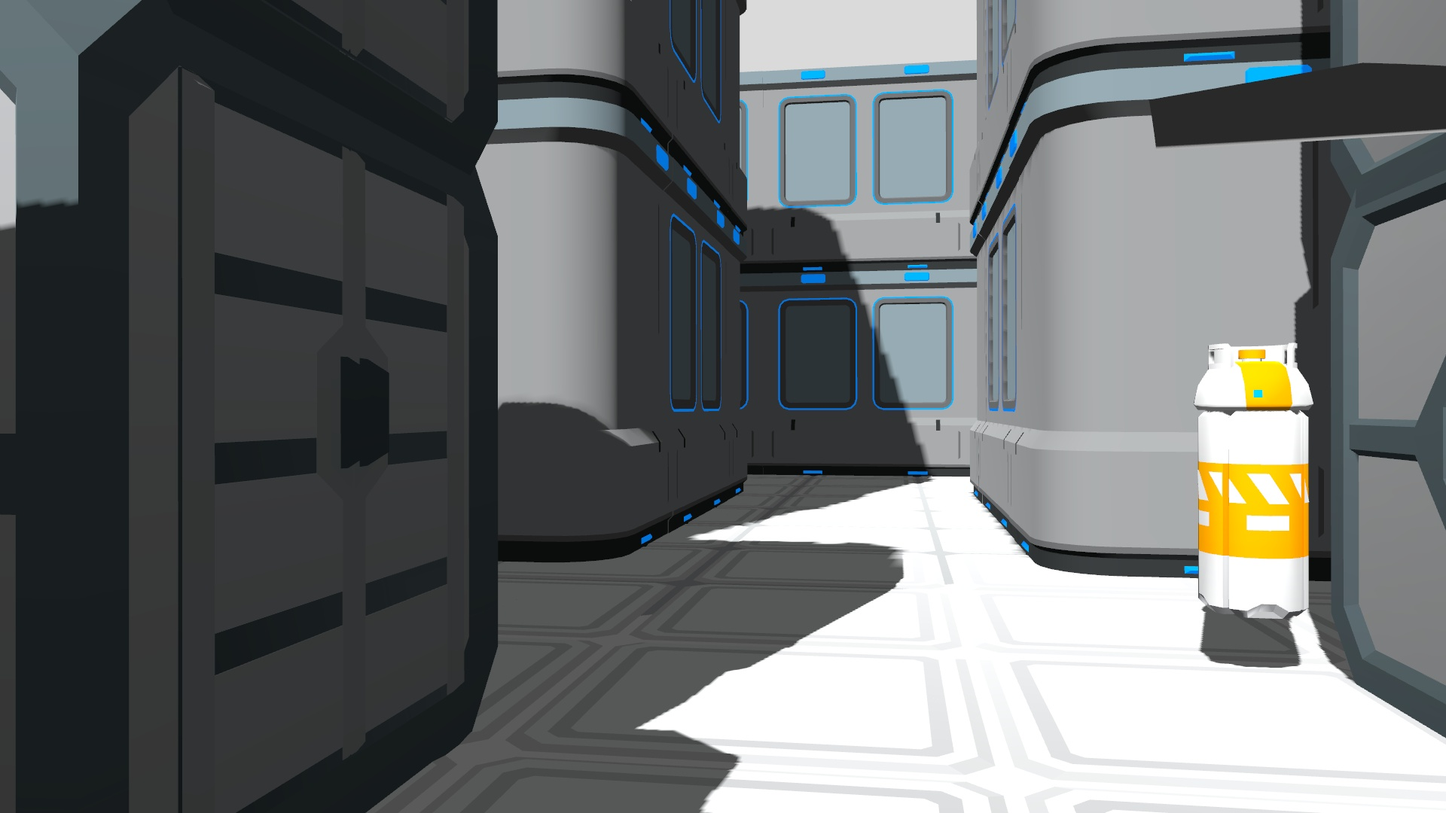yellow_barrel: (1187, 333, 1314, 634)
